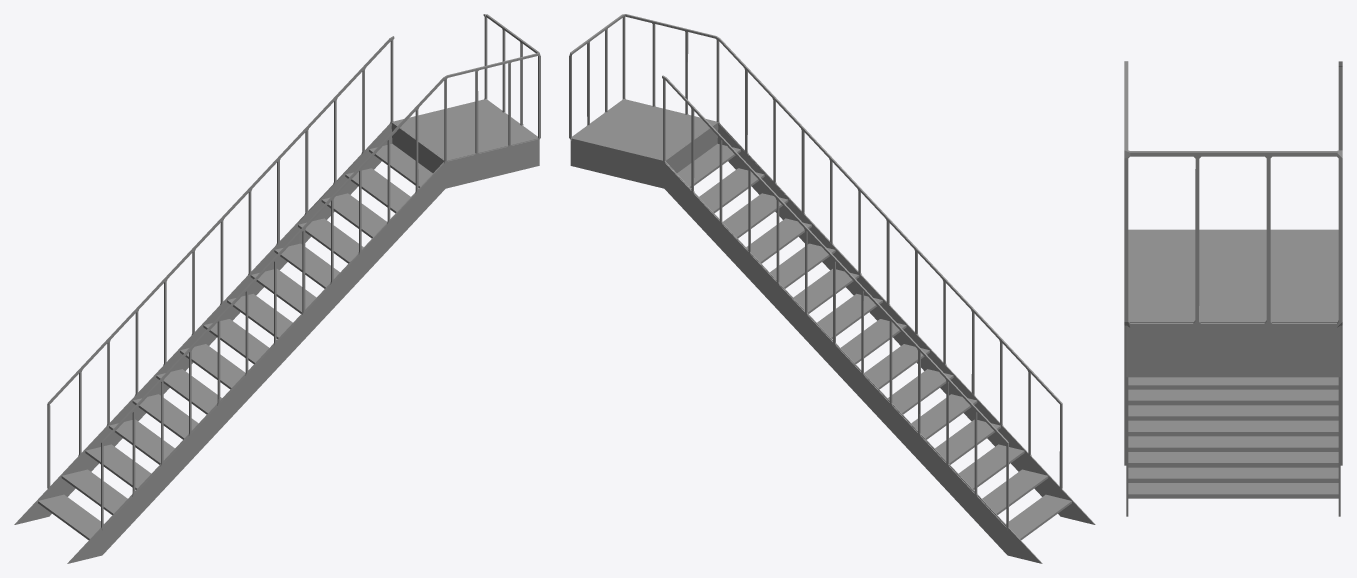
Rendered from Stairs.fbx.
3 renders of one model, left to right at view 1: azimuth 30°, elevation 25°; view 2: azimuth 150°, elevation 25°; view 3: azimuth 270°, elevation 25°, orthographic. The views are drawn at different scales.
Parts seen in each view (by area): view 1: Stairs1.0; view 2: Stairs1.0; view 3: Stairs1.0.
Boxes of the visible parts, x1,y1,x2,y2 form: Stairs1.0: (14, 14, 540, 563); Stairs1.0: (569, 14, 1095, 563); Stairs1.0: (1124, 61, 1342, 516).
Size of the model in its own units: 750 by 600 by 150.
1 material, 1 textured.
